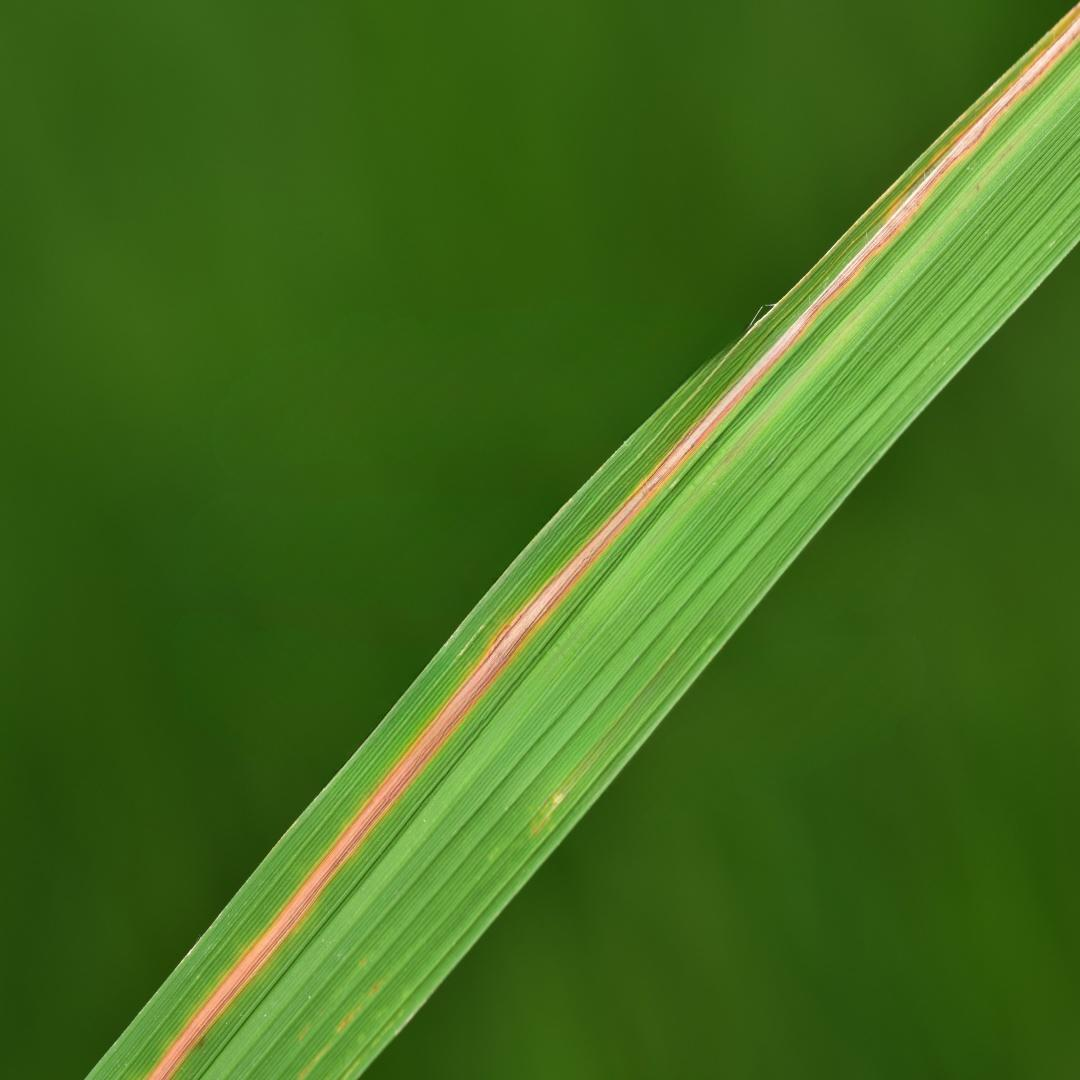BLB: (147, 13, 1079, 1079)
